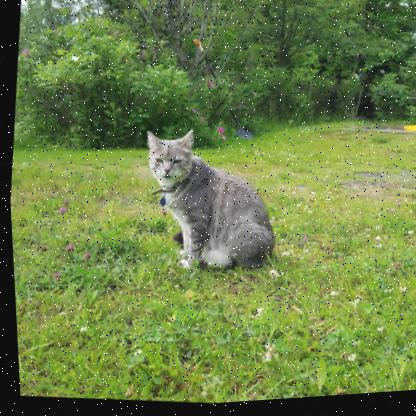cat: (134, 122, 282, 274)
